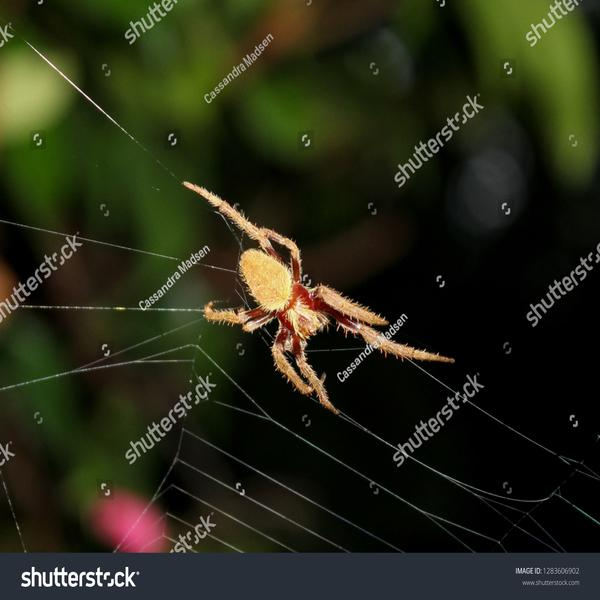Garden_Orb_Weaver_Spider: (179, 180, 456, 415)
